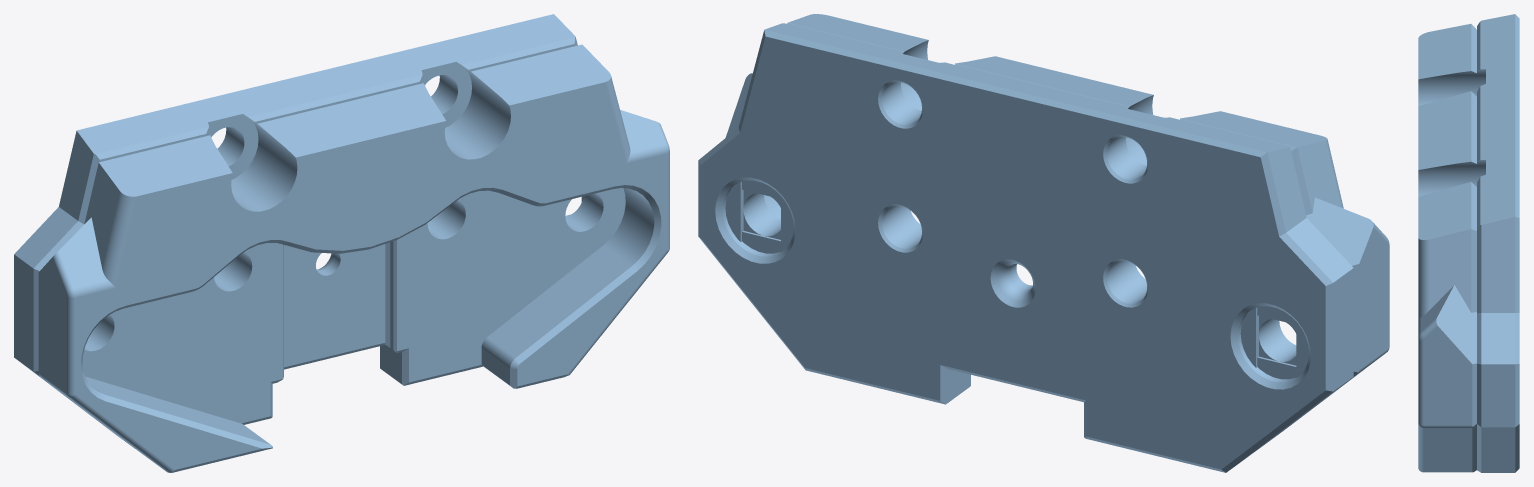
Rendered from Crossbow cutter holder - LGX-L_VZHex.gltf.
The picture shows the model from 3 angles, left to right: view 1: azimuth 30°, elevation 25°; view 2: azimuth 150°, elevation 25°; view 3: azimuth 270°, elevation 25°; orthographic projection. The views are drawn at different scales.
Visible parts, largest first — view 1: Crossbow cutter holder - LGX-L_VZHex; view 2: Crossbow cutter holder - LGX-L_VZHex; view 3: Crossbow cutter holder - LGX-L_VZHex.
Part boxes in pixels (x1=…): Crossbow cutter holder - LGX-L_VZHex: x1=14, y1=14, x2=669, y2=472; Crossbow cutter holder - LGX-L_VZHex: x1=698, y1=14, x2=1389, y2=472; Crossbow cutter holder - LGX-L_VZHex: x1=1418, y1=14, x2=1519, y2=472.
Bounding box in the file's own units: 0.0536 × 0.0267 × 0.009.
